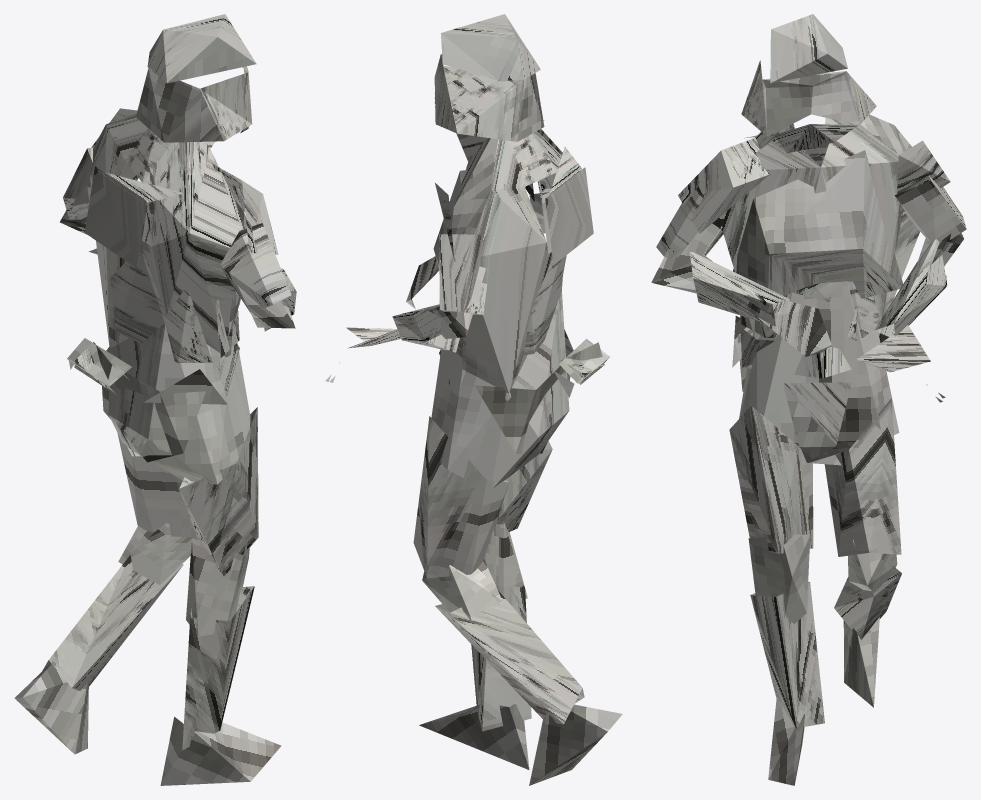
3 views of the same model, side by side, from view 1: azimuth 30°, elevation 25°; view 2: azimuth 150°, elevation 25°; view 3: azimuth 270°, elevation 25° (orthographic). The views are drawn at different scales.
Parts seen in each view (by area): view 1: Object_129; view 2: Object_129; view 3: Object_129.
Part boxes in pixels (x1,y1,x2,y2): Object_129: (14,14,296,785); Object_129: (325,14,622,785); Object_129: (651,14,966,785).
Bounding box in the file's own units: 66.42 × 184 × 71.64.
Materials: 1 (1 with a texture image).
